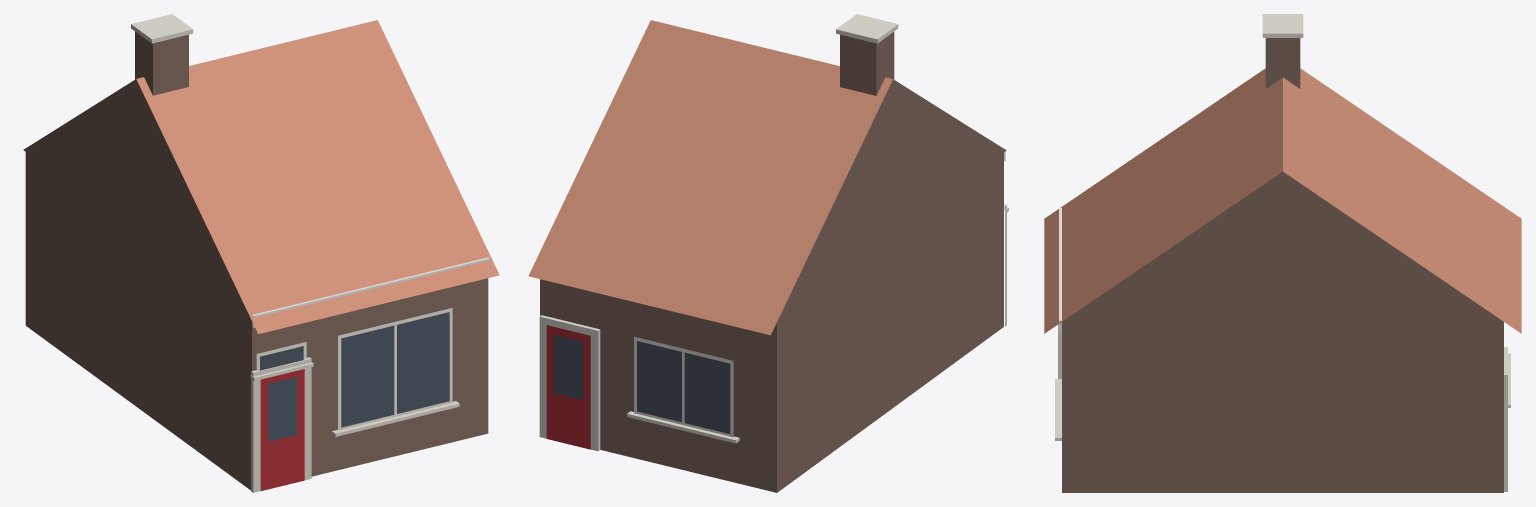
The model's file is oo-ta-cottage__red__2__gable__long__solid.glb.
3 views of the same model, side by side, from view 1: azimuth 30°, elevation 25°; view 2: azimuth 150°, elevation 25°; view 3: azimuth 270°, elevation 25° (orthographic). The views are drawn at different scales.
Parts seen in each view (by area): view 1: oo-ta-cottage__red__2__gable__long__solid; view 2: oo-ta-cottage__red__2__gable__long__solid; view 3: oo-ta-cottage__red__2__gable__long__solid.
Part boxes in pixels (x1,y1,x2,y2): oo-ta-cottage__red__2__gable__long__solid: [23, 14, 499, 492]; oo-ta-cottage__red__2__gable__long__solid: [528, 14, 1008, 492]; oo-ta-cottage__red__2__gable__long__solid: [1044, 14, 1521, 492].
Size of the model in its own units: 4.68 by 6.96 by 8.18.
